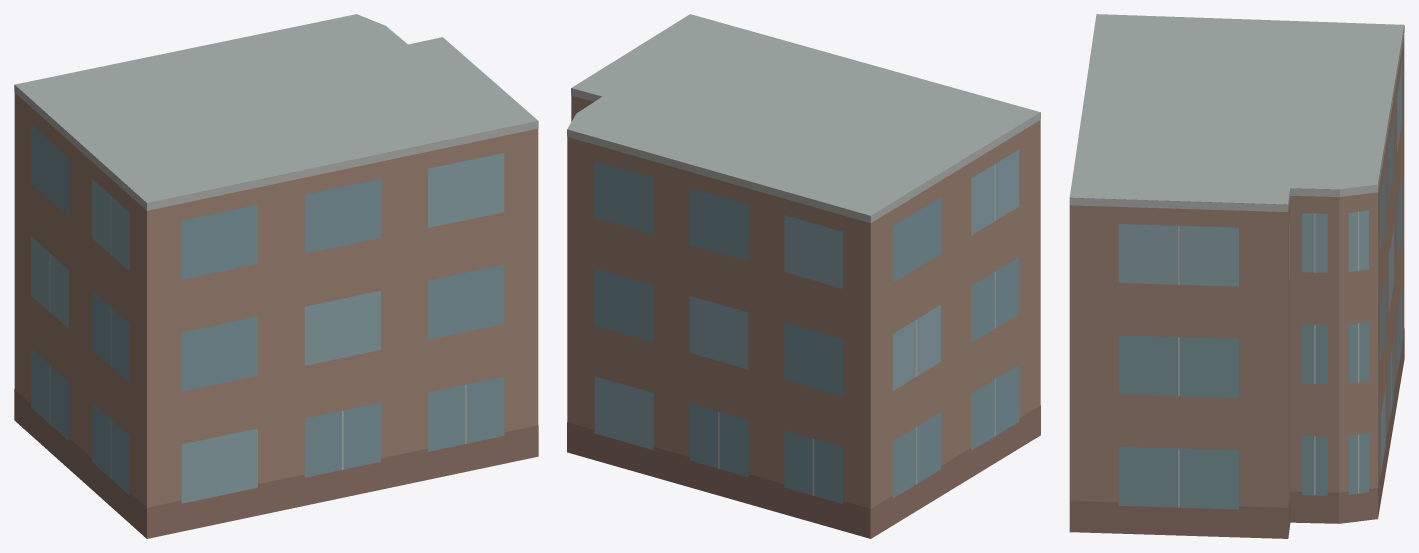
Rendered from survey-upis-32655688.glb.
The picture shows the model from 3 angles, left to right: view 1: azimuth 30°, elevation 25°; view 2: azimuth 150°, elevation 25°; view 3: azimuth 270°, elevation 25°; orthographic projection. The views are drawn at different scales.
Visible parts, largest first — view 1: survey-upis-32655688.tmp; view 2: survey-upis-32655688.tmp; view 3: survey-upis-32655688.tmp.
Part boxes in pixels (x1=…): survey-upis-32655688.tmp: x1=14, y1=14, x2=538, y2=538; survey-upis-32655688.tmp: x1=567, y1=14, x2=1040, y2=538; survey-upis-32655688.tmp: x1=1069, y1=14, x2=1404, y2=538.
Size of the model in its own units: 12.96 by 10.6 by 9.63.
